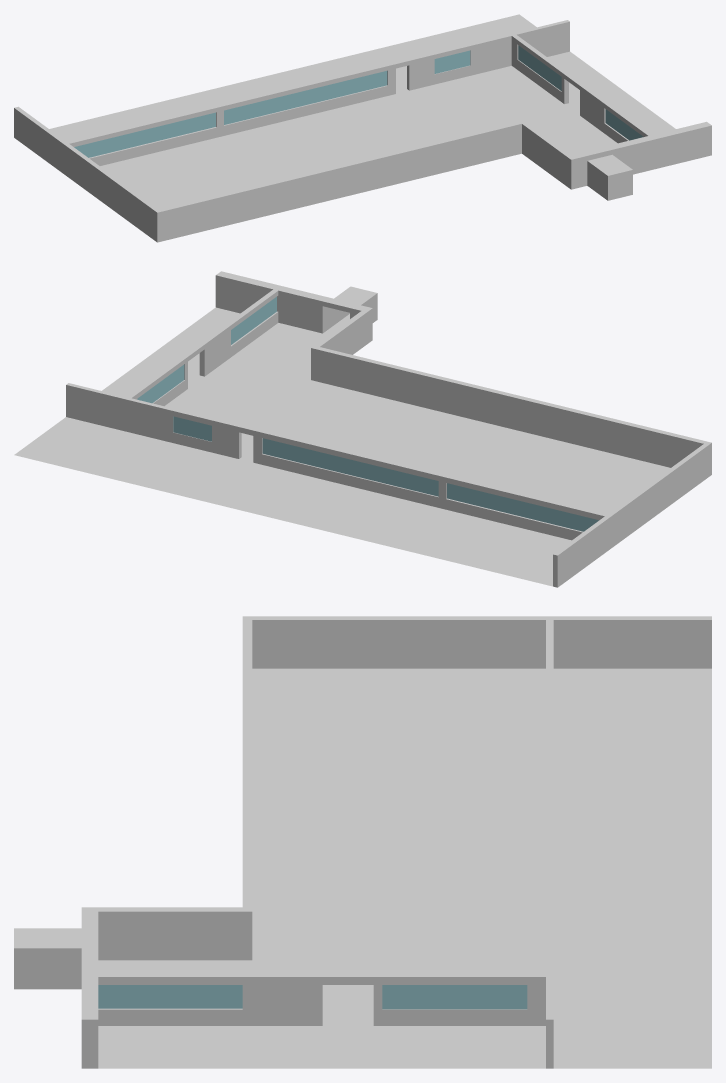
The model's file is Longjam level.fbx.
3 views of the same model, one above another, from view 1: azimuth 30°, elevation 25°; view 2: azimuth 150°, elevation 25°; view 3: azimuth 270°, elevation 25° (orthographic). The views are drawn at different scales.
Visible parts, largest first — view 1: Level, Long Window 2, Long Window, Glass.001, window, Window; view 2: Level, Long Window 2, Long Window, Window, Glass.001, window; view 3: Level, Glass.001, Window.
Part boxes in pixels (x1,y1,x2,y2): Level: (14,14,711,242); Long Window 2: (224,71,387,124); Long Window: (74,112,215,157); Glass.001: (518,45,561,90); window: (434,50,470,73); Window: (605,109,643,140); Level: (14,271,711,587); Long Window 2: (262,438,438,496); Long Window: (447,483,598,531); Window: (231,296,276,344); Glass.001: (137,364,184,403); window: (173,416,211,441); Level: (14,616,711,1068); Glass.001: (382,985,527,1009); Window: (98,985,242,1008).
Bounding box in the file's own units: 7532 × 425 × 5505.
